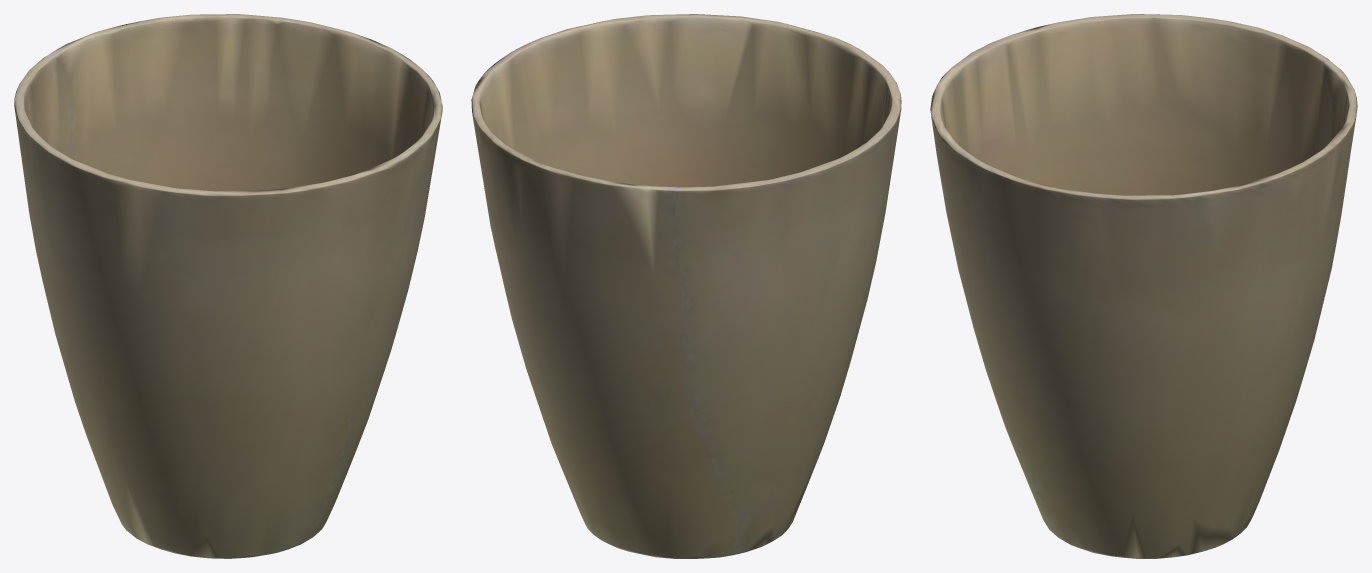
File: Ecoforms_Plant_Container_URN_SAN-high.glb
3 renders of one model, left to right at view 1: azimuth 30°, elevation 25°; view 2: azimuth 150°, elevation 25°; view 3: azimuth 270°, elevation 25°, orthographic.
Visible parts, largest first — view 1: Ecoforms_Plant_Container_URN_SAN; view 2: Ecoforms_Plant_Container_URN_SAN; view 3: Ecoforms_Plant_Container_URN_SAN.
Part boxes in pixels (bbox=[...]): Ecoforms_Plant_Container_URN_SAN: bbox=[14, 14, 442, 558]; Ecoforms_Plant_Container_URN_SAN: bbox=[471, 14, 901, 558]; Ecoforms_Plant_Container_URN_SAN: bbox=[930, 14, 1357, 558].
Size of the model in its own units: 0.1492 by 0.1594 by 0.1487.
1 material, 1 textured.
